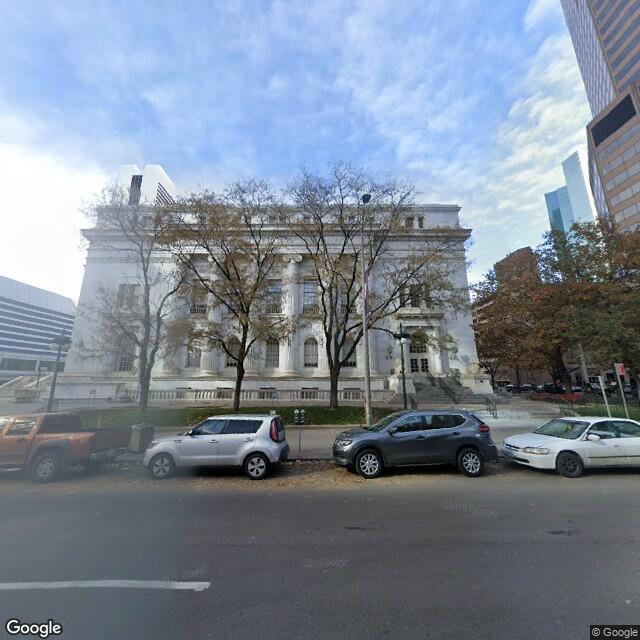lamp: (350, 191, 384, 420)
